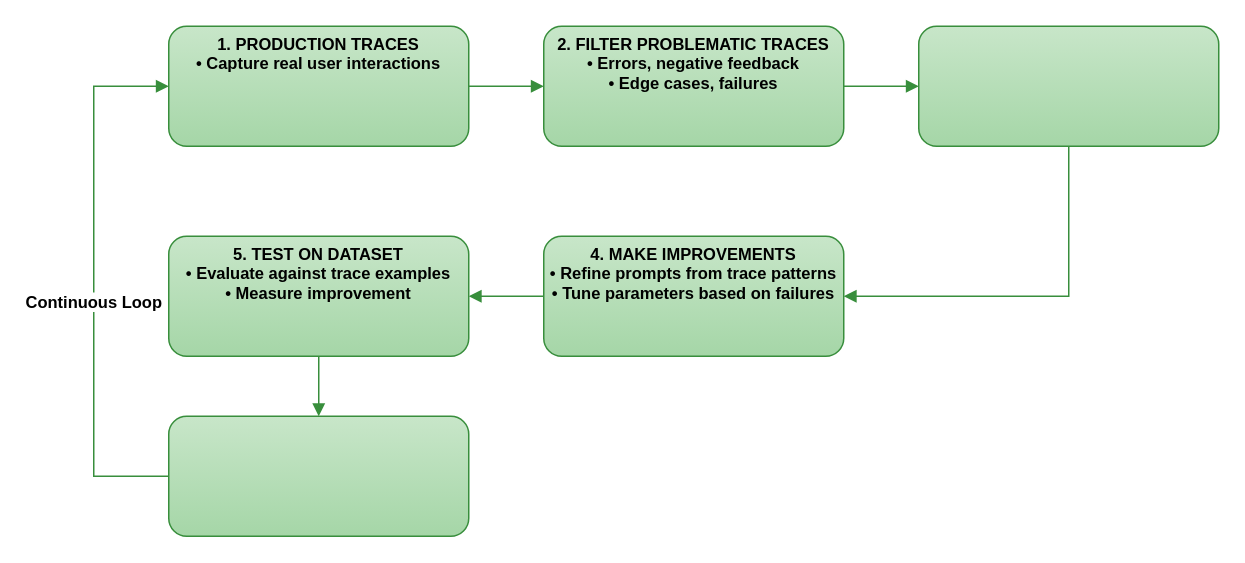
Some shapes in this 1245 by 563 pixel diagram are drawn without their labels. The centre of each missing label's shape, as x and y in pixels:
"3. CURATE DATASET • Add traces to evaluation dataset • Correct expected outputs" goes at (x=1068, y=85).
"6. DEPLOY TO PRODUCTION • Generate new traces • Continue improvement cycle" goes at (x=318, y=475).
